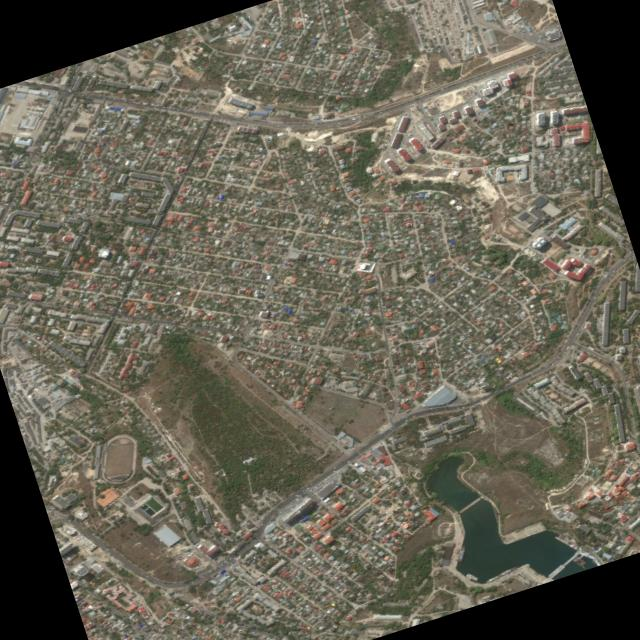large-vehicle: (37, 387, 41, 390), (39, 386, 42, 390), (565, 345, 568, 349), (603, 274, 607, 277), (305, 487, 309, 490), (48, 386, 51, 389), (332, 469, 335, 472), (35, 392, 39, 394), (190, 326, 194, 328), (226, 39, 230, 41), (228, 36, 232, 38), (141, 102, 145, 104), (412, 415, 415, 417), (346, 460, 349, 462), (332, 466, 335, 468), (550, 363, 553, 365), (354, 386, 357, 388), (404, 419, 407, 421), (296, 494, 299, 496), (67, 519, 70, 521), (362, 115, 365, 117), (520, 25, 523, 27), (519, 24, 522, 26), (350, 118, 355, 119), (19, 178, 21, 180), (593, 296, 595, 298), (3, 203, 7, 204), (257, 506, 259, 508), (153, 107, 156, 108), (461, 406, 464, 407), (634, 435, 635, 438), (185, 109, 188, 110), (48, 510, 51, 511), (155, 104, 158, 105), (582, 255, 583, 257), (341, 388, 343, 389), (343, 389, 345, 390)
ship: (497, 564, 518, 576), (570, 554, 586, 566), (457, 544, 465, 561), (484, 574, 498, 582), (581, 565, 585, 568)
small-vehicle: (479, 399, 482, 401), (404, 416, 407, 418), (381, 424, 384, 426), (388, 427, 391, 429), (367, 464, 369, 467), (440, 88, 443, 90), (269, 545, 272, 547), (306, 508, 308, 511), (595, 323, 598, 325), (538, 35, 541, 37), (524, 57, 527, 59), (4, 186, 7, 188), (16, 186, 18, 189), (83, 584, 86, 586), (269, 109, 271, 112), (228, 128, 230, 131), (374, 458, 376, 460), (392, 425, 394, 427), (342, 468, 344, 470), (337, 469, 339, 471), (335, 471, 337, 473), (544, 365, 546, 367), (566, 395, 568, 397), (528, 238, 530, 240), (526, 276, 528, 278), (563, 351, 565, 353), (561, 353, 563, 355), (176, 108, 178, 110), (213, 114, 215, 116), (325, 534, 327, 536), (314, 486, 316, 488), (324, 478, 326, 480), (290, 507, 292, 509), (296, 498, 298, 500), (321, 537, 323, 539), (265, 538, 267, 540), (319, 501, 321, 503), (320, 502, 322, 504), (312, 487, 314, 489), (280, 515, 282, 517), (270, 514, 272, 516), (317, 554, 319, 556), (262, 524, 264, 526), (262, 528, 264, 530), (485, 72, 487, 74), (477, 40, 479, 42), (188, 109, 190, 111), (576, 332, 578, 334), (439, 7, 441, 9), (556, 42, 558, 44), (596, 285, 598, 287), (484, 10, 486, 12), (632, 255, 634, 257), (282, 514, 284, 516), (607, 272, 609, 274), (628, 257, 630, 259), (622, 259, 624, 261), (587, 260, 589, 262), (582, 216, 584, 218), (581, 215, 583, 217), (546, 134, 548, 136), (517, 60, 519, 62), (544, 50, 546, 52), (29, 161, 31, 163), (21, 350, 23, 352), (2, 359, 4, 361), (14, 187, 16, 189), (220, 564, 222, 566), (220, 563, 222, 565), (245, 568, 247, 570), (213, 567, 215, 569), (191, 581, 193, 583), (260, 593, 262, 595), (75, 579, 77, 581), (197, 604, 199, 606), (187, 585, 189, 587), (218, 555, 220, 557), (216, 556, 218, 558), (4, 359, 6, 361), (88, 565, 90, 567), (251, 598, 253, 600), (132, 626, 134, 628), (149, 615, 151, 617), (184, 556, 186, 558), (223, 560, 225, 562), (225, 561, 227, 563), (228, 556, 230, 558), (105, 212, 107, 214), (406, 147, 408, 149), (259, 121, 261, 123), (224, 115, 226, 117), (80, 93, 82, 95), (535, 109, 537, 111), (453, 391, 455, 393), (452, 390, 454, 392), (452, 388, 454, 390), (210, 22, 212, 24), (243, 24, 245, 26), (44, 209, 46, 211), (103, 245, 105, 247), (238, 19, 240, 21), (112, 292, 114, 294), (71, 306, 73, 308), (80, 320, 82, 322), (92, 353, 94, 355), (249, 542, 251, 544), (97, 208, 99, 210), (76, 66, 78, 68), (29, 152, 31, 154), (61, 98, 63, 100), (62, 96, 64, 98), (57, 105, 59, 107), (50, 120, 52, 122), (45, 129, 47, 131), (44, 131, 46, 133), (121, 315, 124, 316), (144, 170, 147, 171), (134, 102, 137, 103), (260, 516, 263, 517), (575, 334, 578, 335), (558, 111, 559, 114), (533, 56, 536, 57), (282, 606, 285, 607), (378, 111, 381, 112), (80, 64, 81, 67), (41, 154, 44, 155), (468, 41, 470, 42), (371, 444, 373, 445), (323, 480, 324, 482), (359, 463, 360, 465), (337, 474, 339, 475), (573, 356, 574, 358), (553, 371, 554, 373), (552, 361, 554, 362), (463, 82, 465, 83), (477, 86, 479, 87), (532, 238, 533, 240), (528, 238, 530, 239), (537, 289, 538, 291), (535, 287, 537, 288), (532, 285, 534, 286), (554, 361, 556, 362), (328, 476, 330, 477), (571, 355, 572, 357), (284, 513, 286, 514), (321, 485, 323, 486), (475, 76, 477, 77), (153, 237, 155, 238), (351, 579, 353, 580), (373, 628, 374, 630), (293, 590, 295, 591), (152, 319, 154, 320), (140, 259, 141, 261), (167, 106, 169, 107), (171, 107, 173, 108), (137, 110, 138, 112), (142, 103, 144, 104), (132, 101, 134, 102), (284, 554, 286, 555), (309, 483, 311, 484), (305, 485, 307, 486), (302, 498, 304, 499), (43, 477, 45, 478), (216, 114, 218, 115), (197, 111, 199, 112), (260, 518, 262, 519), (473, 43, 475, 44), (147, 107, 149, 108), (512, 18, 514, 19), (162, 106, 164, 107), (536, 31, 538, 32), (556, 24, 557, 26), (220, 115, 222, 116), (627, 437, 629, 438), (595, 327, 597, 328), (492, 9, 493, 11), (540, 31, 541, 33), (560, 29, 561, 31), (183, 109, 185, 110), (507, 21, 509, 22), (548, 49, 550, 50), (509, 15, 510, 17), (492, 9, 494, 10), (471, 17, 472, 19), (430, 17, 431, 19), (538, 35, 540, 36), (510, 14, 511, 16), (574, 256, 576, 257), (573, 270, 575, 271), (561, 119, 562, 121), (568, 94, 569, 96), (532, 55, 534, 56), (124, 148, 126, 149), (123, 100, 125, 101), (8, 317, 10, 318), (301, 124, 303, 125), (12, 84, 14, 85), (264, 610, 265, 612), (298, 10, 300, 11), (7, 298, 9, 299), (204, 498, 205, 500), (255, 572, 256, 574), (201, 576, 203, 577), (199, 575, 201, 576), (102, 97, 104, 98), (137, 600, 139, 601), (45, 462, 46, 464), (216, 561, 217, 563), (84, 93, 86, 94), (56, 512, 58, 513), (47, 466, 48, 468), (104, 603, 105, 605), (314, 123, 316, 124), (323, 120, 325, 121), (245, 595, 247, 596), (234, 603, 236, 604), (148, 616, 150, 617), (262, 636, 264, 637), (270, 122, 272, 123), (337, 122, 339, 123), (320, 5, 321, 7), (82, 94, 84, 95), (282, 123, 284, 124), (228, 558, 230, 559), (252, 124, 253, 126), (247, 124, 248, 126), (243, 123, 244, 125), (242, 123, 243, 125), (233, 41, 234, 43), (224, 30, 225, 32), (223, 32, 224, 34), (404, 136, 405, 138), (39, 209, 41, 210), (81, 216, 83, 217), (56, 211, 58, 212), (538, 109, 539, 111), (589, 521, 591, 522), (435, 408, 437, 409), (211, 23, 213, 24), (92, 220, 93, 222), (67, 213, 69, 214), (405, 136, 406, 138), (36, 208, 38, 209), (86, 95, 88, 96), (148, 302, 149, 304), (45, 303, 47, 304), (82, 337, 84, 338), (93, 502, 94, 504), (178, 518, 180, 519), (181, 524, 182, 526), (245, 546, 247, 547), (60, 100, 62, 101), (75, 68, 76, 70), (15, 85, 17, 86), (63, 91, 64, 93), (65, 108, 67, 109), (53, 112, 54, 114), (47, 126, 48, 128), (22, 176, 23, 178), (561, 412, 562, 413), (358, 463, 359, 464), (523, 303, 524, 304), (23, 175, 24, 176), (262, 527, 263, 528), (31, 159, 32, 160), (0, 185, 1, 186), (441, 229, 442, 230), (93, 491, 94, 492), (305, 640, 307, 640)
